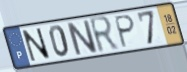0: (47, 24, 70, 59)
7: (136, 9, 158, 47)
N: (64, 19, 100, 57), (20, 27, 53, 64)
P: (114, 14, 137, 50)
R: (87, 14, 121, 56)
